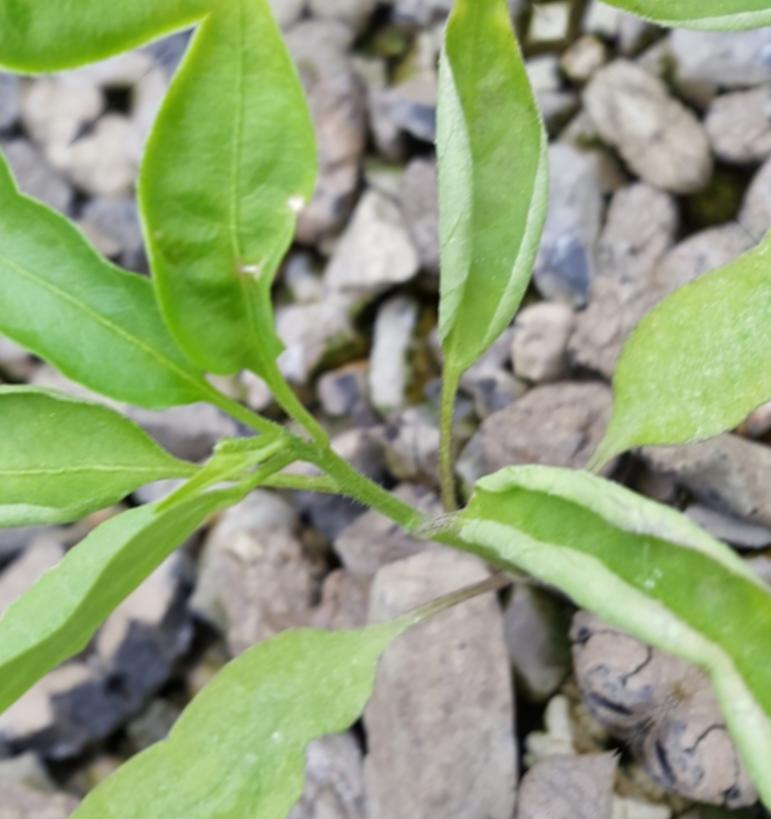Tomato leaf: (23, 0, 490, 407), (237, 0, 693, 409), (0, 142, 297, 542), (154, 555, 445, 819), (544, 220, 771, 542)
